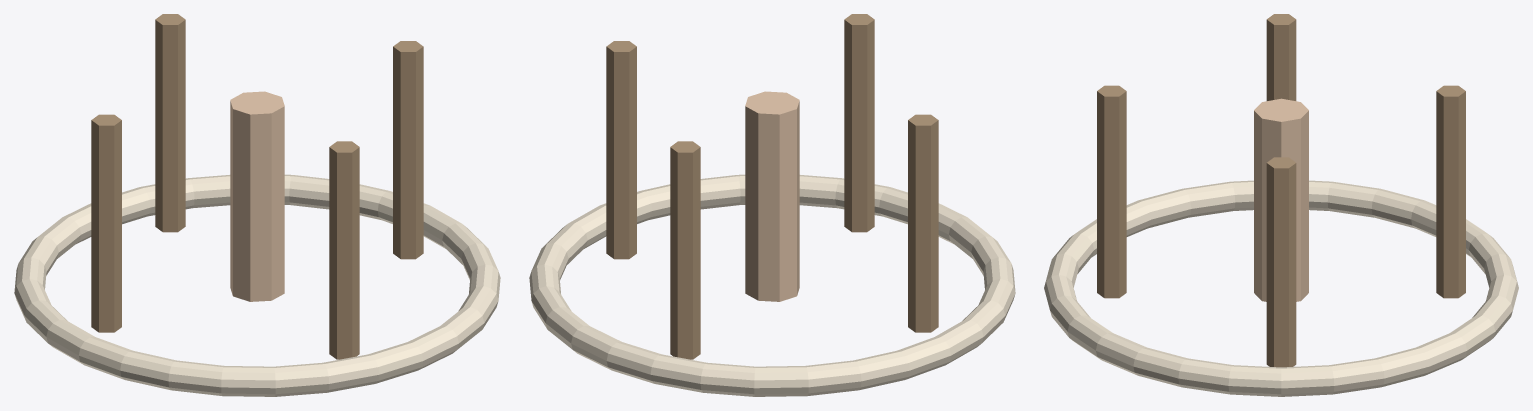
File: training_grounds.glb
The picture shows the model from 3 angles, left to right: view 1: azimuth 30°, elevation 25°; view 2: azimuth 150°, elevation 25°; view 3: azimuth 270°, elevation 25°; orthographic projection. The views are drawn at different scales.
Visible parts, largest first — view 1: ring.001, dummy.001, p2, p0, p1, p3; view 2: ring.001, dummy.001, p2, p0, p3, p1; view 3: ring.001, dummy.001, p0, p1, p3, p2.
Boxes of the visible parts, x1,y1,x2,y2 form: ring.001: [14, 174, 500, 396]; dummy.001: [230, 91, 284, 301]; p2: [91, 114, 121, 332]; p0: [393, 41, 423, 259]; p1: [155, 14, 185, 232]; p3: [329, 141, 359, 359]; ring.001: [529, 174, 1015, 396]; dummy.001: [745, 91, 799, 301]; p2: [908, 114, 938, 332]; p0: [606, 41, 636, 259]; p3: [844, 14, 874, 232]; p1: [670, 141, 700, 359]; ring.001: [1044, 180, 1518, 396]; dummy.001: [1254, 98, 1308, 301]; p0: [1266, 157, 1296, 367]; p1: [1436, 85, 1465, 298]; p3: [1097, 85, 1126, 298]; p2: [1266, 14, 1296, 100].
Size of the model in its own units: 2.24 by 1.09 by 2.24.
